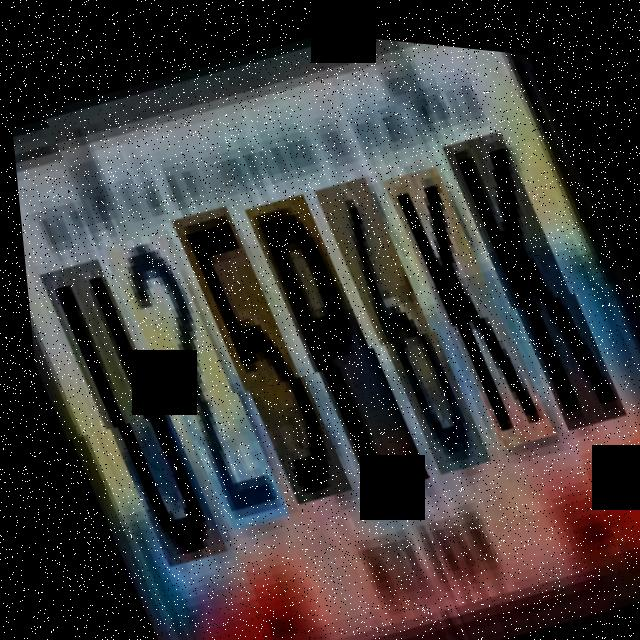2: (98, 221, 291, 533)
5: (164, 194, 353, 503)
6: (307, 161, 493, 470)
K: (440, 119, 633, 431), (378, 149, 559, 442)
P: (238, 179, 430, 491)
U: (27, 241, 224, 561)
